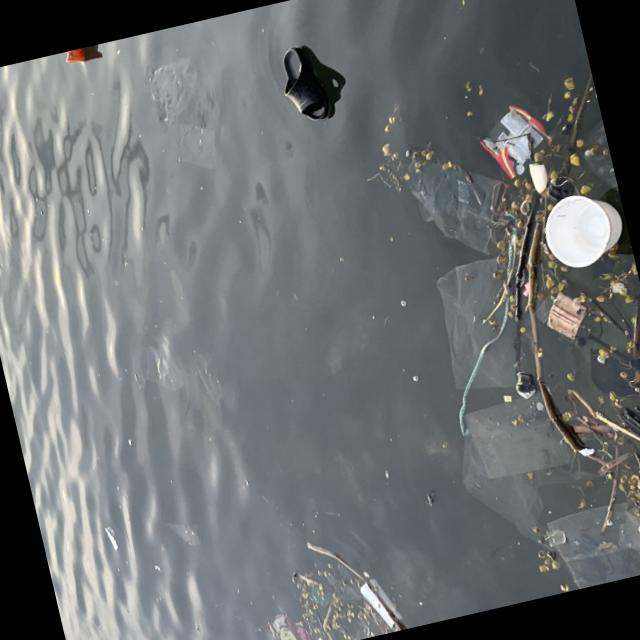foam: (539, 186, 630, 273), (528, 160, 551, 195)
plastic bag: (481, 104, 551, 179)
plastic bottle: (582, 334, 640, 408), (64, 47, 91, 66)
